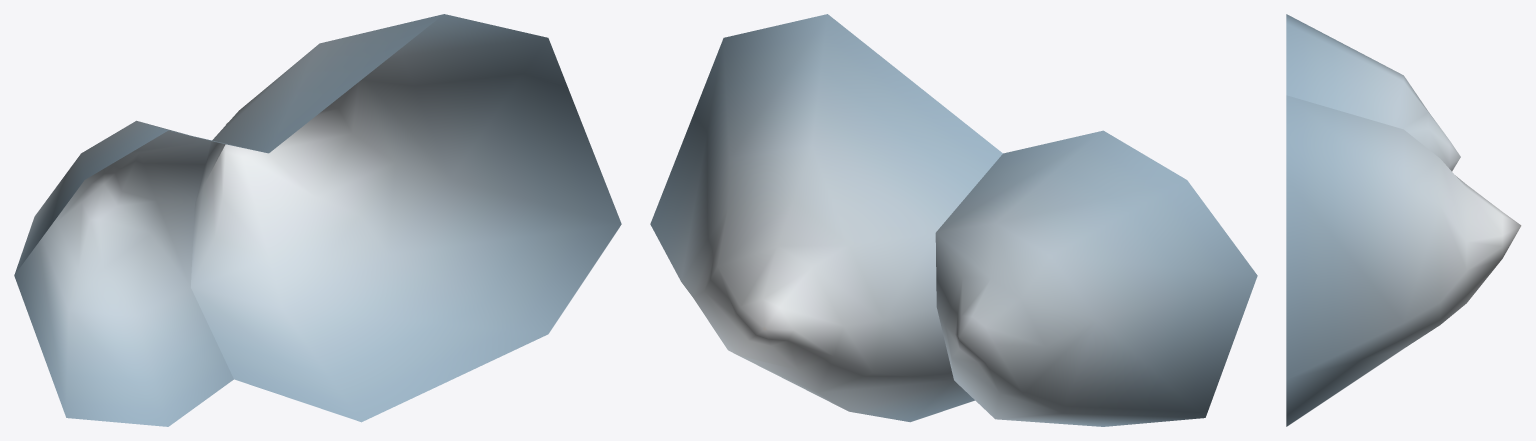
Rendered from Mountain_B.FBX.
3 views of the same model, side by side, from view 1: azimuth 30°, elevation 25°; view 2: azimuth 150°, elevation 25°; view 3: azimuth 270°, elevation 25° (orthographic). The views are drawn at different scales.
Visible parts, largest first — view 1: Mountain_B; view 2: Mountain_B; view 3: Mountain_B.
Boxes of the visible parts, x1=… form: Mountain_B: x1=14, y1=14, x2=621, y2=426; Mountain_B: x1=650, y1=14, x2=1257, y2=426; Mountain_B: x1=1286, y1=14, x2=1521, y2=426.
Bounding box in the file's own units: 546 × 333 × 219.
